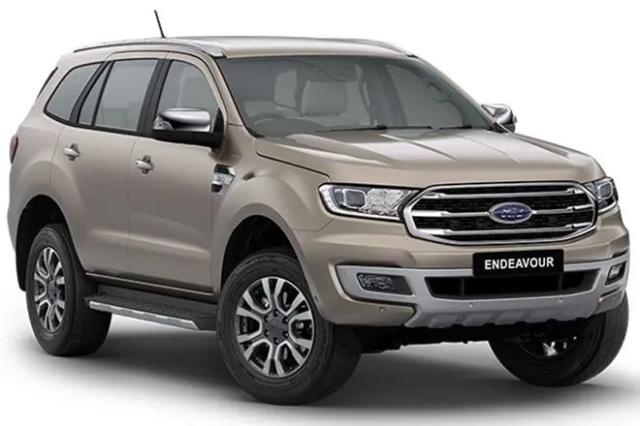ford: (8, 9, 630, 406)
